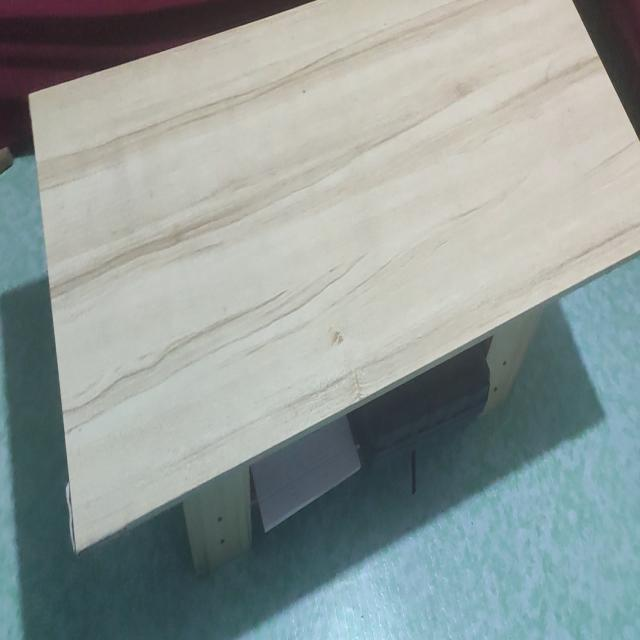table: (27, 2, 640, 576)
